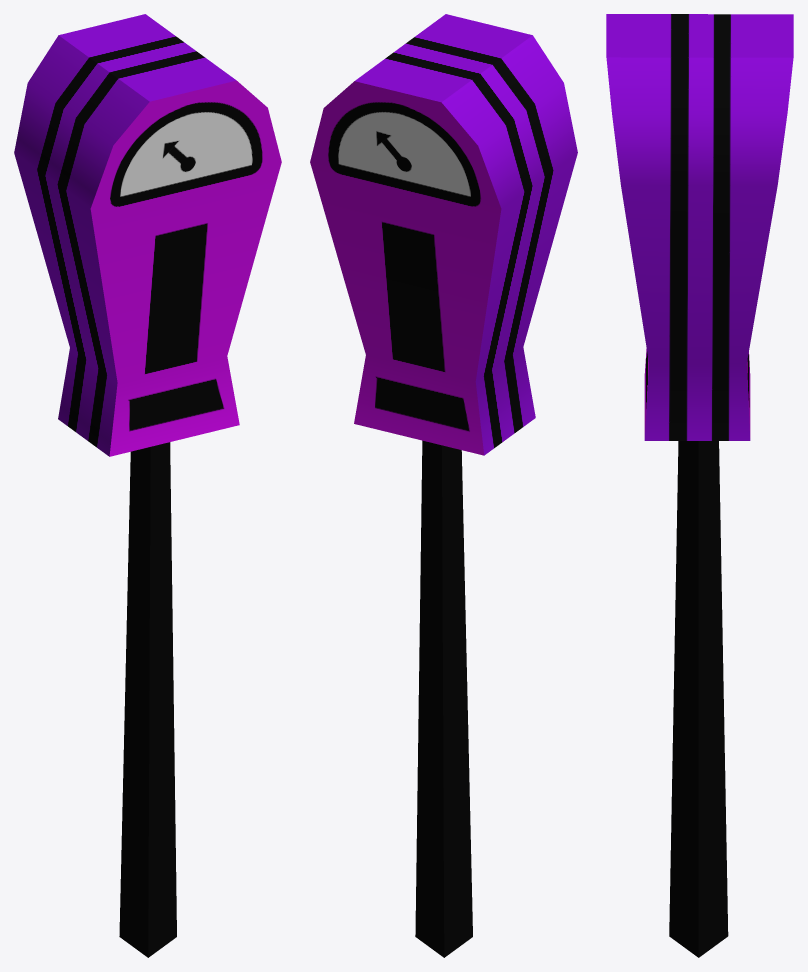
Rendered from ParkingMeter.fbx.
3 views of the same model, side by side, from view 1: azimuth 30°, elevation 25°; view 2: azimuth 150°, elevation 25°; view 3: azimuth 270°, elevation 25° (orthographic). The views are drawn at different scales.
Parts seen in each view (by area): view 1: TODOS:polySurface11; view 2: TODOS:polySurface11; view 3: TODOS:polySurface11.
Part boxes in pixels (left/top/right/bottom): TODOS:polySurface11: left=14, top=14, right=281, bottom=957; TODOS:polySurface11: left=310, top=14, right=577, bottom=957; TODOS:polySurface11: left=606, top=14, right=793, bottom=957.
Bounding box in the file's own units: 1.23 × 5.45 × 1.02.
